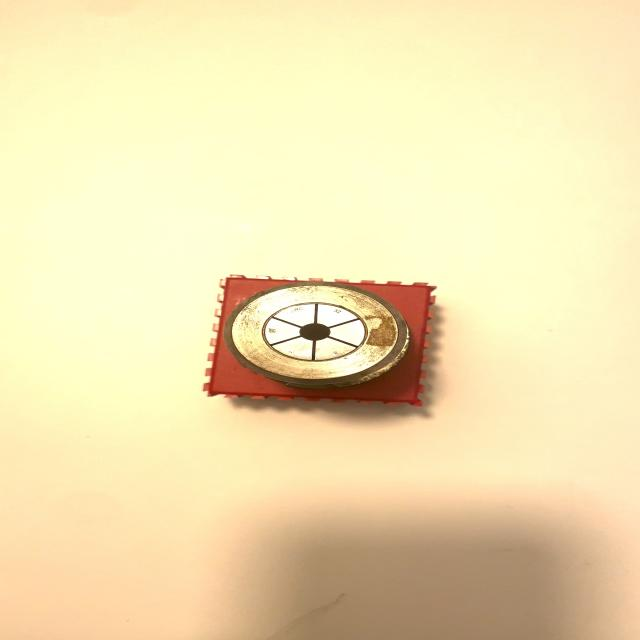Filled_Slot: (223, 281, 409, 389)
